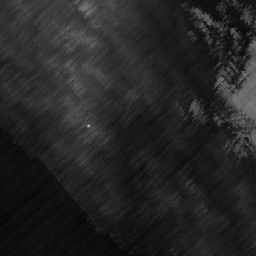Target: (85, 123, 91, 129)
